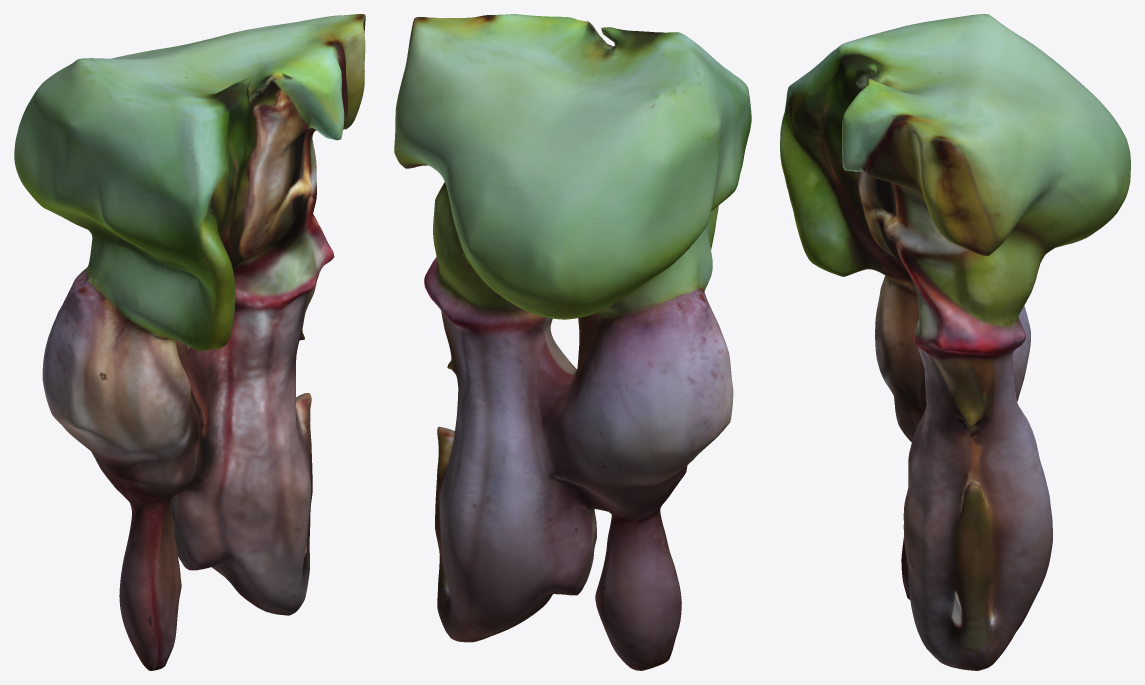
Rendered from semar_0610220014.fbx.
3 renders of one model, left to right at view 1: azimuth 30°, elevation 25°; view 2: azimuth 150°, elevation 25°; view 3: azimuth 270°, elevation 25°, orthographic. The views are drawn at different scales.
Visible parts, largest first — view 1: Mesh_0; view 2: Mesh_0; view 3: Mesh_0.
Boxes of the visible parts, bbox=[...] form: Mesh_0: bbox=[14, 14, 365, 670]; Mesh_0: bbox=[394, 14, 751, 670]; Mesh_0: bbox=[780, 14, 1130, 670].
Size of the model in its own units: 64.48 by 120 by 66.67.
Materials: 1 (1 with a texture image).
